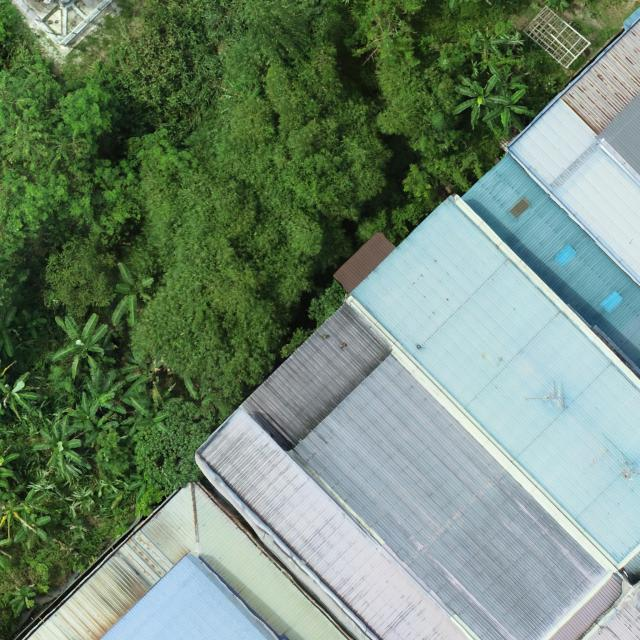Tree: (122, 128, 290, 402), (211, 38, 395, 220), (230, 187, 352, 316), (374, 60, 466, 158), (135, 398, 214, 492), (65, 157, 143, 246), (42, 234, 118, 316), (50, 78, 116, 139), (50, 312, 110, 378), (33, 414, 92, 472), (450, 72, 510, 126), (110, 261, 155, 327), (482, 84, 535, 139), (0, 371, 48, 421), (119, 394, 173, 438), (81, 367, 127, 415), (0, 489, 51, 532), (120, 350, 161, 398), (94, 429, 130, 479), (62, 391, 101, 432), (105, 472, 147, 510), (484, 62, 526, 99), (13, 512, 52, 548), (469, 29, 508, 59), (0, 438, 20, 495), (12, 309, 47, 340), (0, 305, 19, 358), (7, 586, 37, 616)
